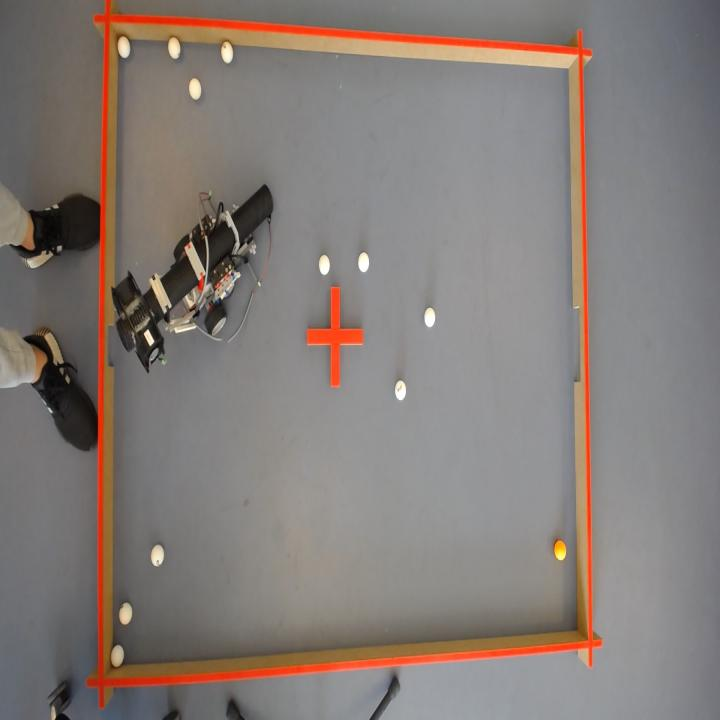orange: (555, 540, 567, 561)
robot: (112, 184, 273, 370)
white: (118, 602, 132, 626), (110, 645, 123, 668), (150, 545, 164, 566), (221, 39, 233, 62), (117, 34, 129, 56), (168, 35, 180, 57), (189, 76, 201, 98), (358, 251, 370, 272), (395, 379, 406, 400), (319, 254, 330, 274), (425, 307, 436, 327)
